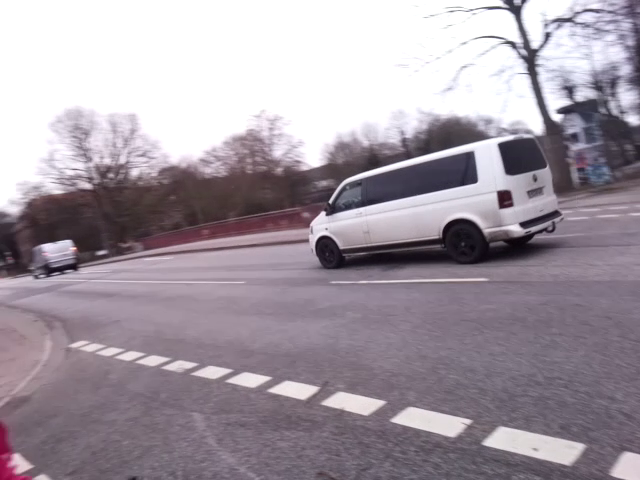car: (304, 127, 551, 291), (23, 233, 79, 283)
